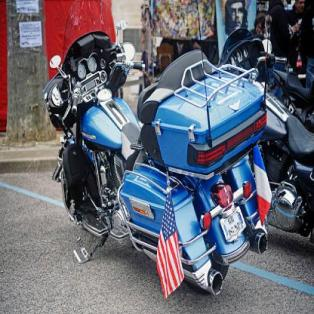Motocicleta: (34, 28, 270, 295)
